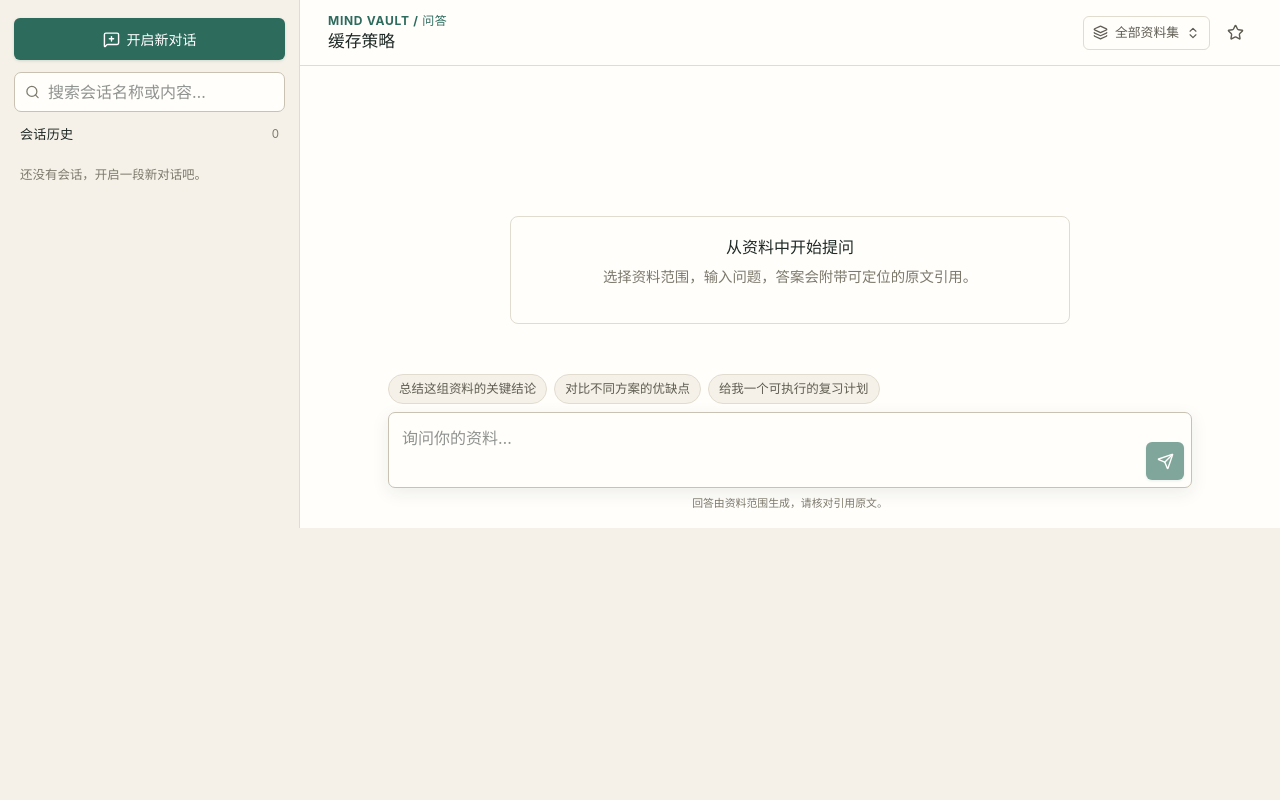
ChatPage › rolls the favorite back and surfaces a readable error when persisting fails
Check: the heading "缓存策略" is shown, box [328,32,395,51]
Step 1. Click the button named "收藏会话" → [1235, 32], box [1218,16,1252,50]
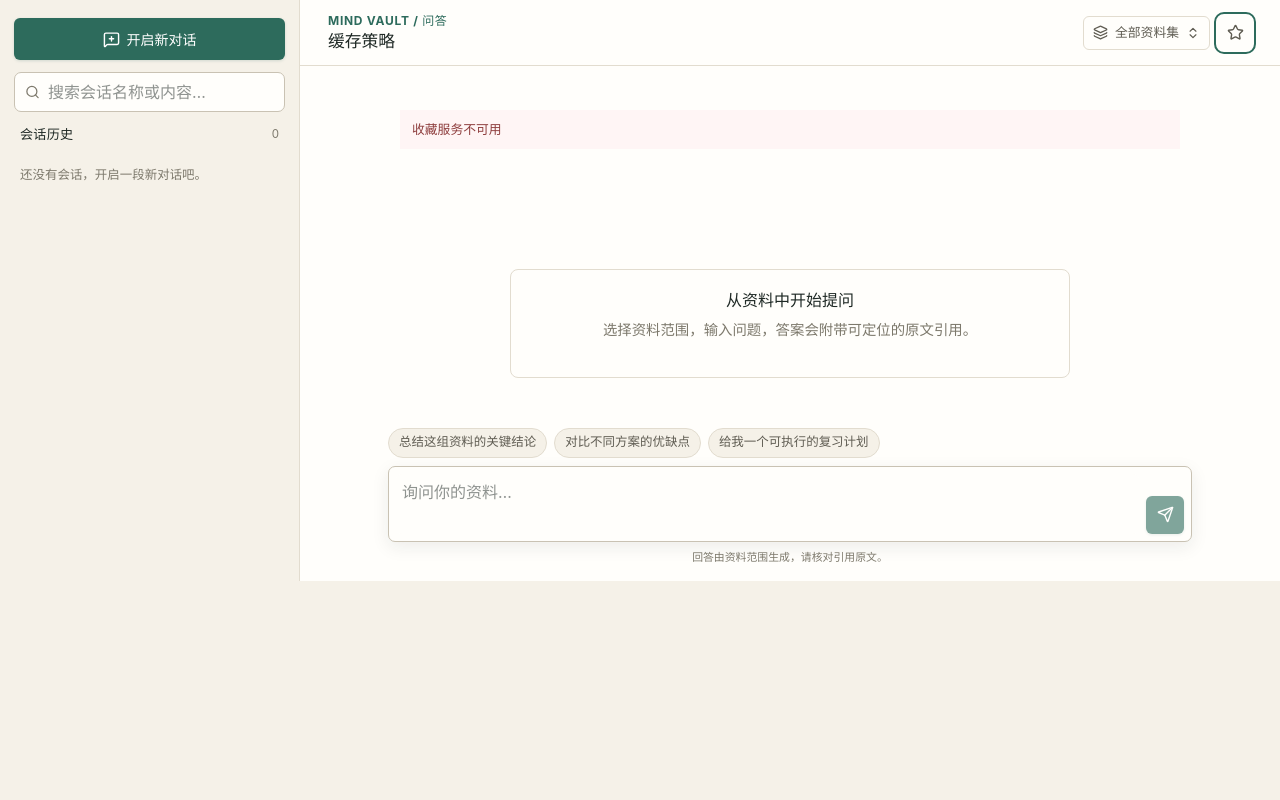
Check: the message reads "收藏服务不可用", box [412,122,502,137]
